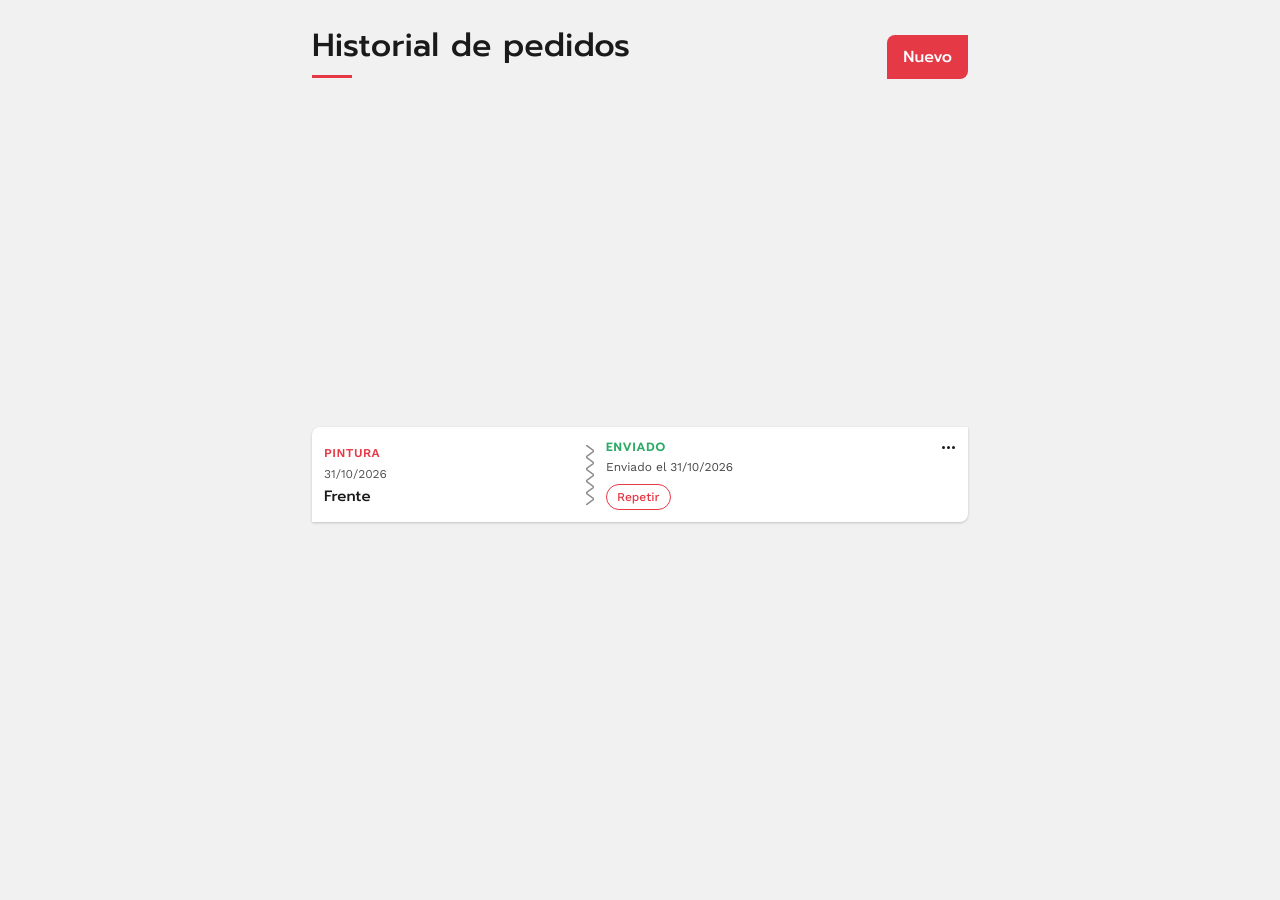
Test: ListaMisQuodoms: la tarjeta abre una ventana › abre la ventana del pedido al tocar la tarjeta, sin navegar
The image size is (1280, 900).
What coordinates should you click on to do the following:
click the button with aria-label "QD-9"
I would click on:
 (640, 475)
Its box is [312, 427, 968, 522].
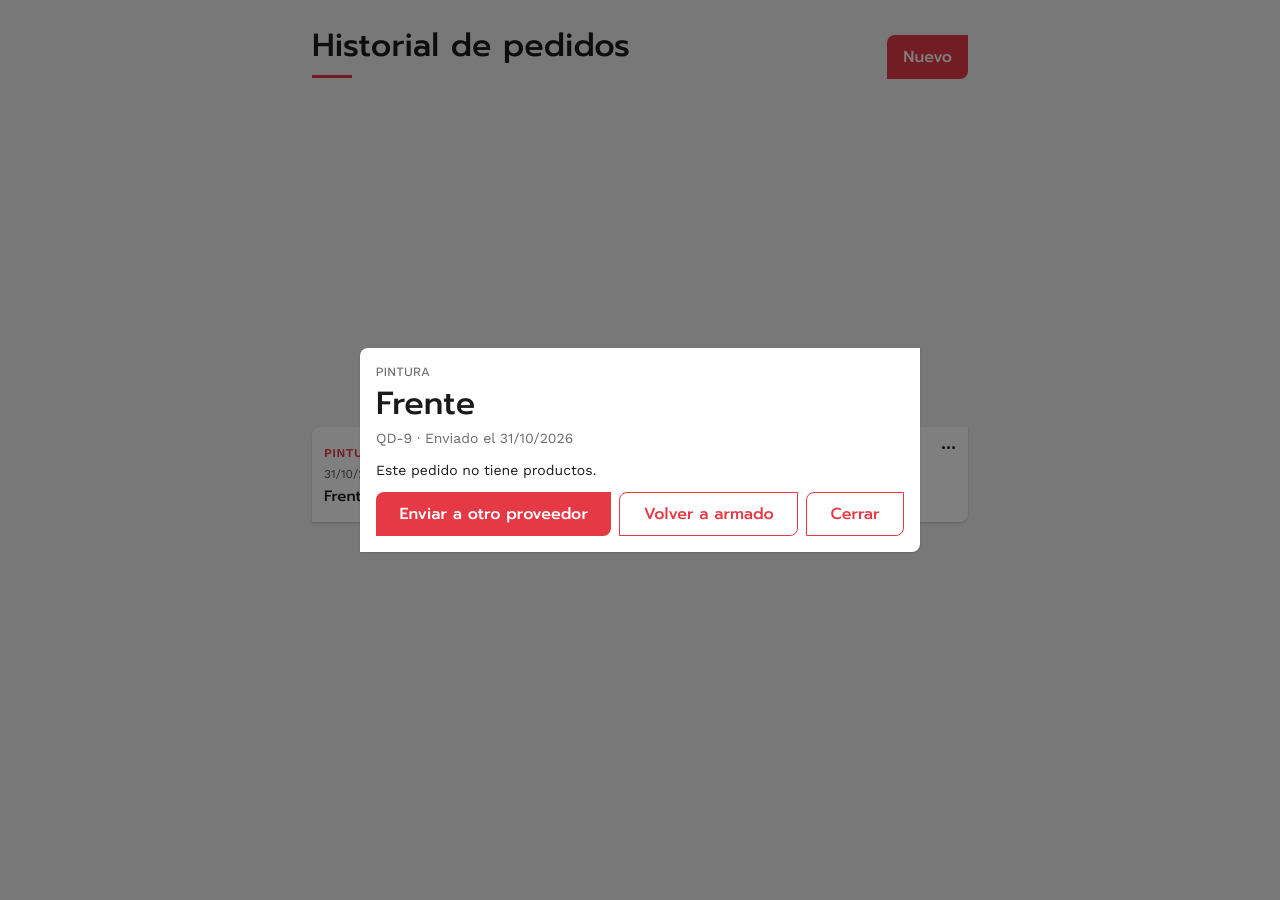
Expected: the heading "Frente" is shown, [376, 379, 475, 428]
Expected: the button "Enviar a otro proveedor" is enabled, [376, 492, 611, 536]
